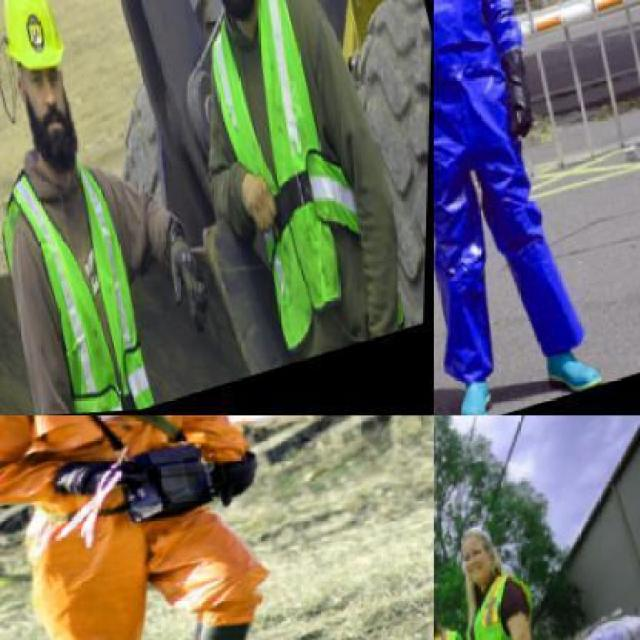vest: (182, 0, 392, 371), (433, 0, 604, 391), (0, 415, 298, 638), (0, 138, 171, 414), (448, 568, 570, 638)
